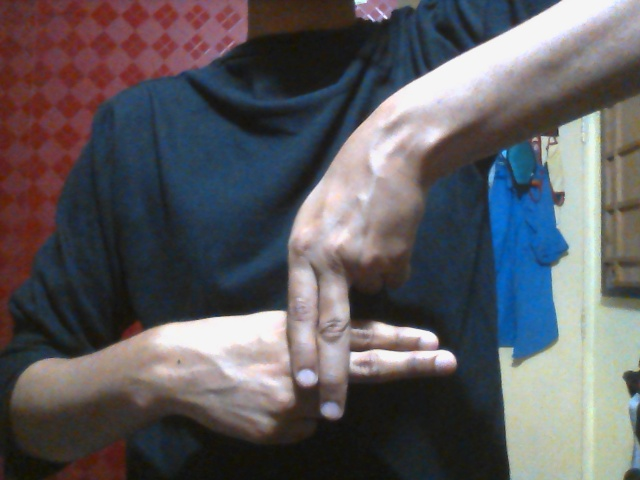F: (173, 148, 459, 448)
